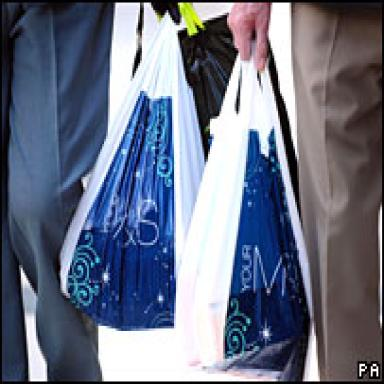plasticbag: (175, 28, 331, 380), (52, 9, 213, 321)
